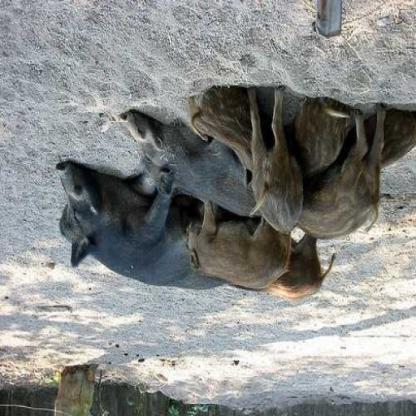boar: (111, 95, 329, 207), (47, 176, 238, 294), (293, 113, 400, 246), (244, 77, 310, 244), (182, 210, 291, 281)
